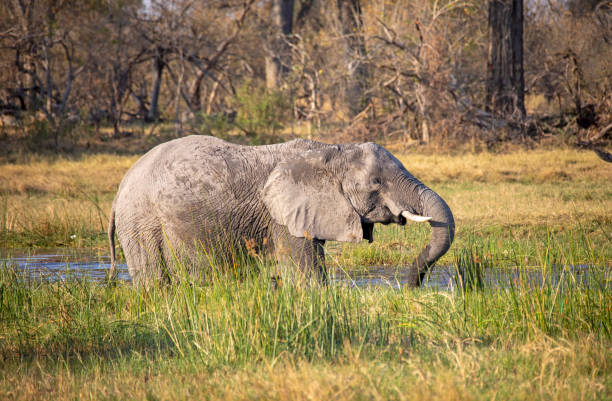africanelephant: (291, 140, 443, 245)
